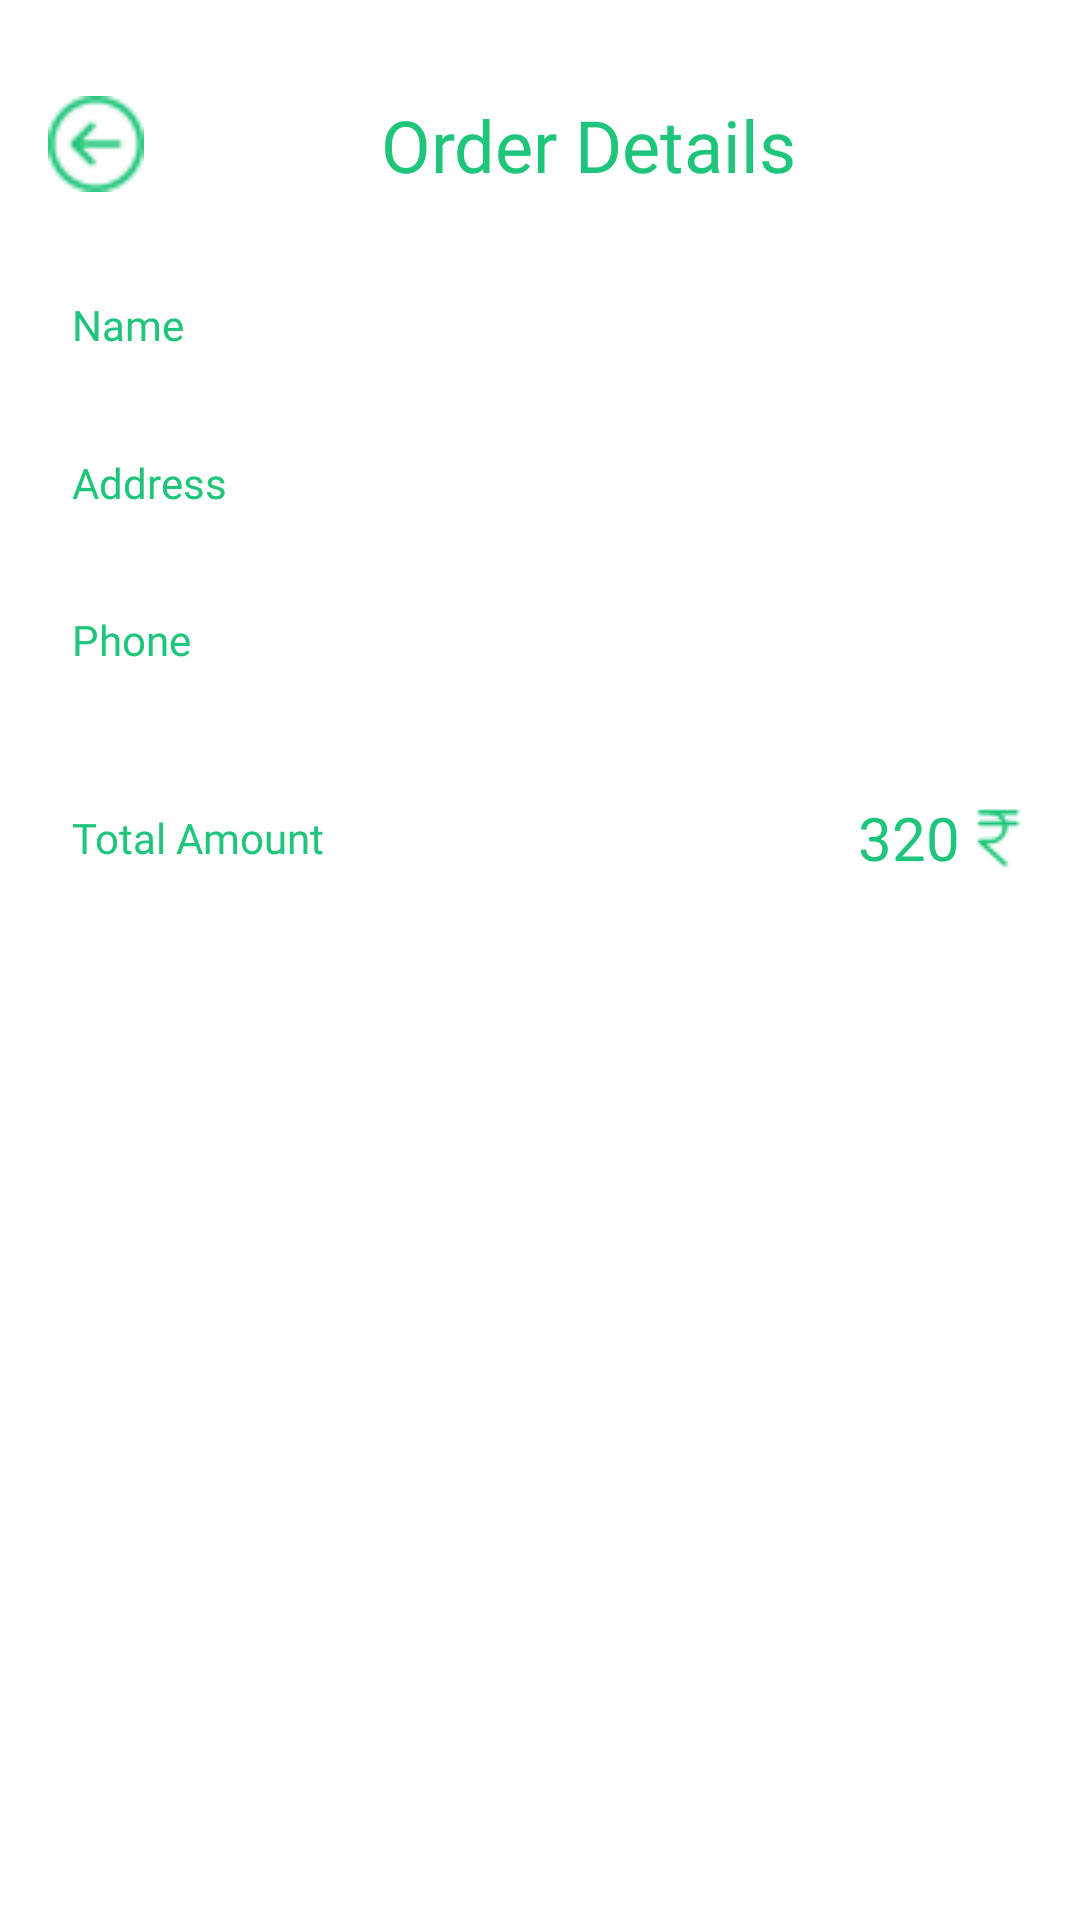

Icon bounding boxes for this 1080w x 1920h phone screenshot, format (x1, y1, x2, y2):
backbtnicon: (48, 96, 144, 192)
